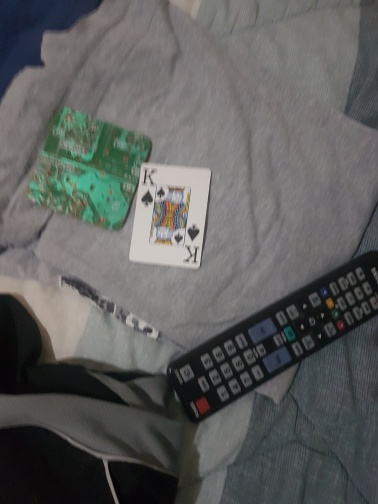king: (129, 162, 213, 269)
